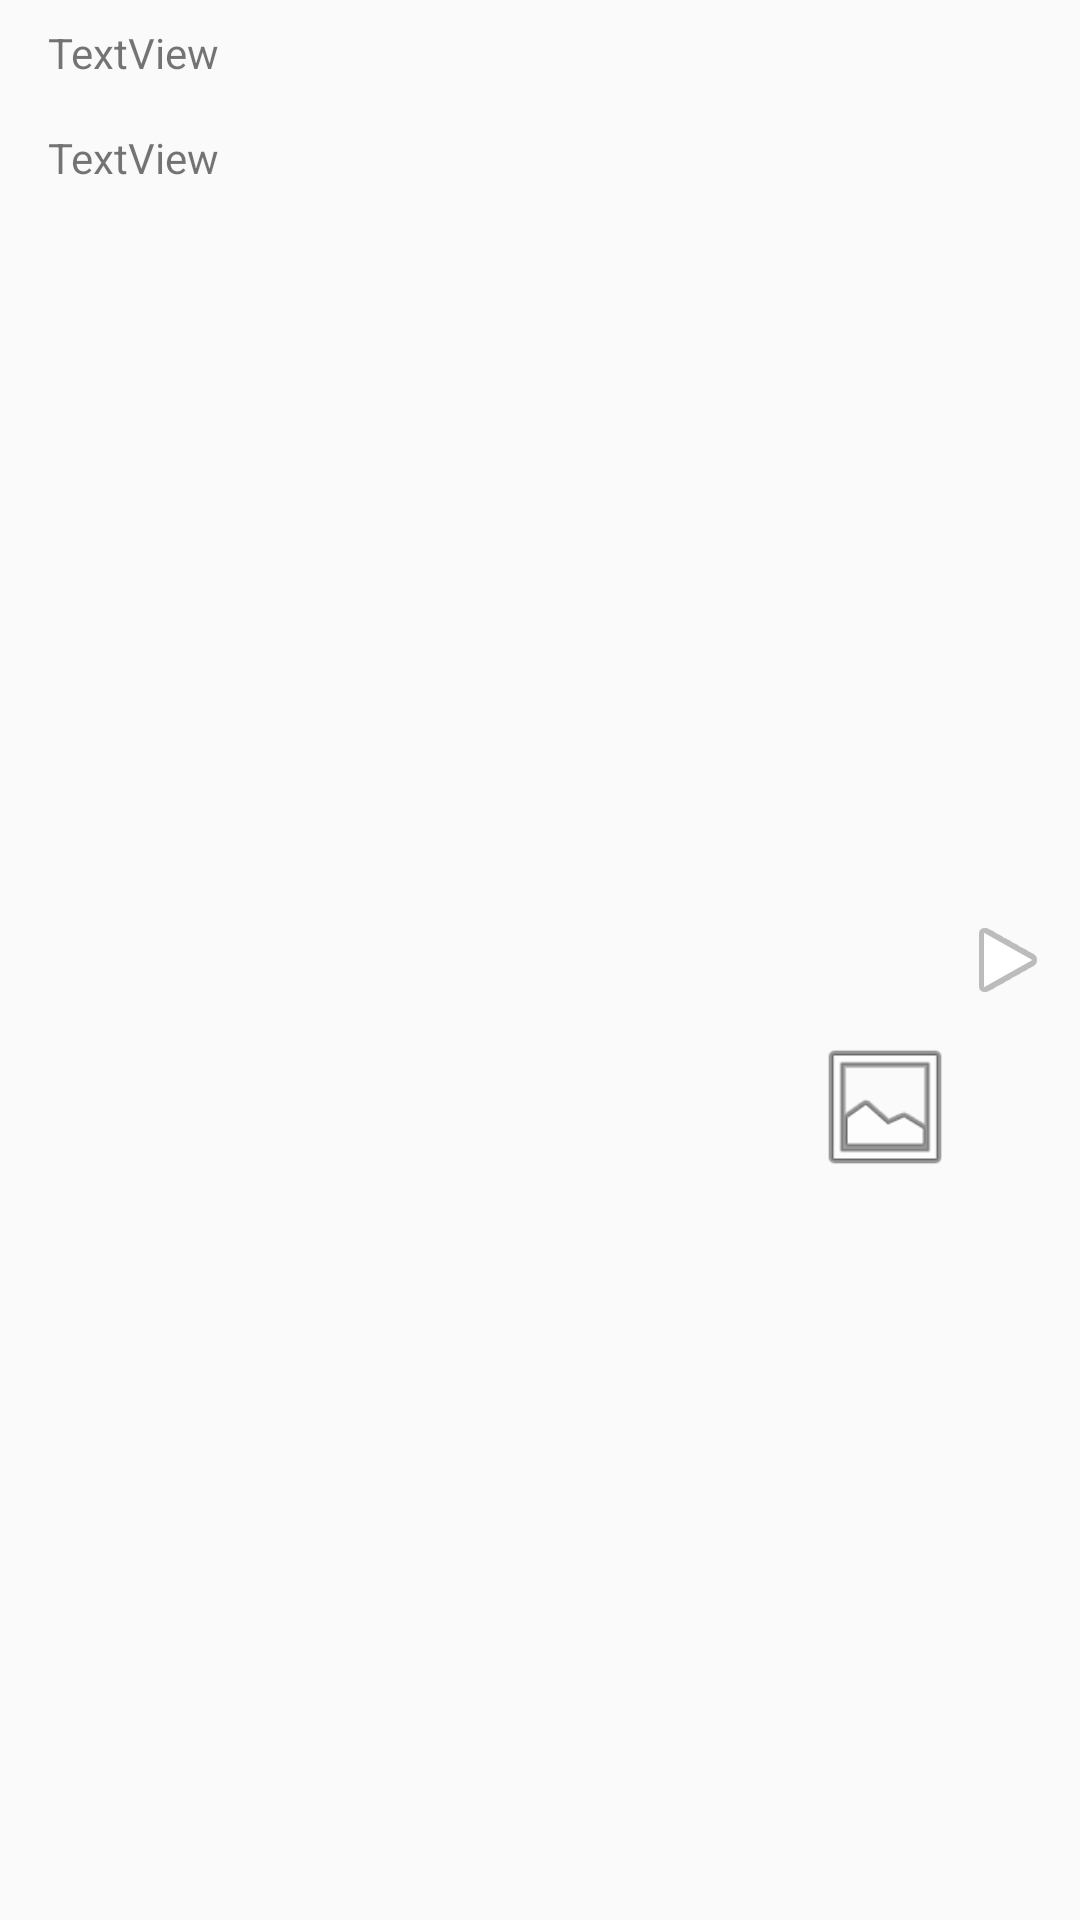

Icons on this 1080 x 1920 Android screen, each with its box as (left=x1, top=y1, right=x2, bottom=y2):
gallery: (left=828, top=1050, right=942, bottom=1164)
play: (left=979, top=928, right=1037, bottom=992)
